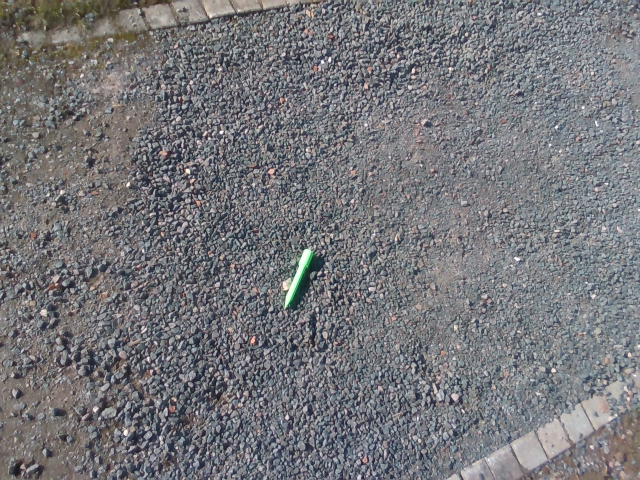Probe: (281, 245, 316, 311)
